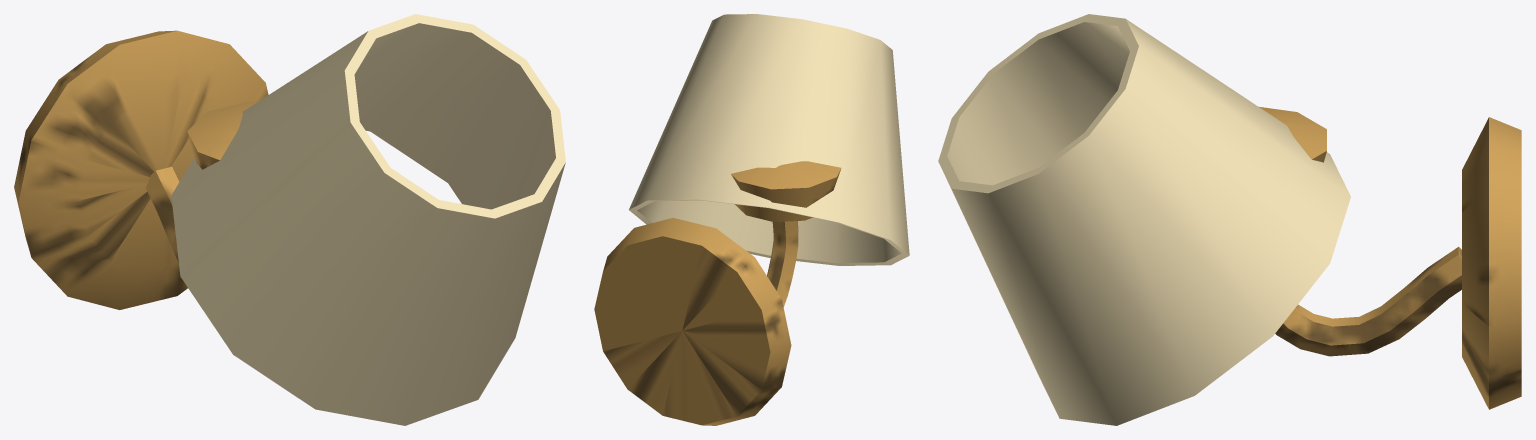
File: FX_SconceBroken.fbx
The picture shows the model from 3 angles, left to right: view 1: azimuth 30°, elevation 25°; view 2: azimuth 150°, elevation 25°; view 3: azimuth 270°, elevation 25°; orthographic projection. The views are drawn at different scales.
Visible parts, largest first — view 1: FX_SconceBroken_Emissive, FX_SconceBroken; view 2: FX_SconceBroken_Emissive, FX_SconceBroken; view 3: FX_SconceBroken_Emissive, FX_SconceBroken.
Part boxes in pixels (x1,y1,x2,y2): FX_SconceBroken_Emissive: (171, 14, 565, 425); FX_SconceBroken: (14, 30, 268, 309); FX_SconceBroken_Emissive: (629, 14, 909, 265); FX_SconceBroken: (594, 161, 841, 425); FX_SconceBroken_Emissive: (938, 14, 1350, 425); FX_SconceBroken: (1259, 107, 1521, 409).
Size of the model in its own units: 0.1439 by 0.1602 by 0.2142.
